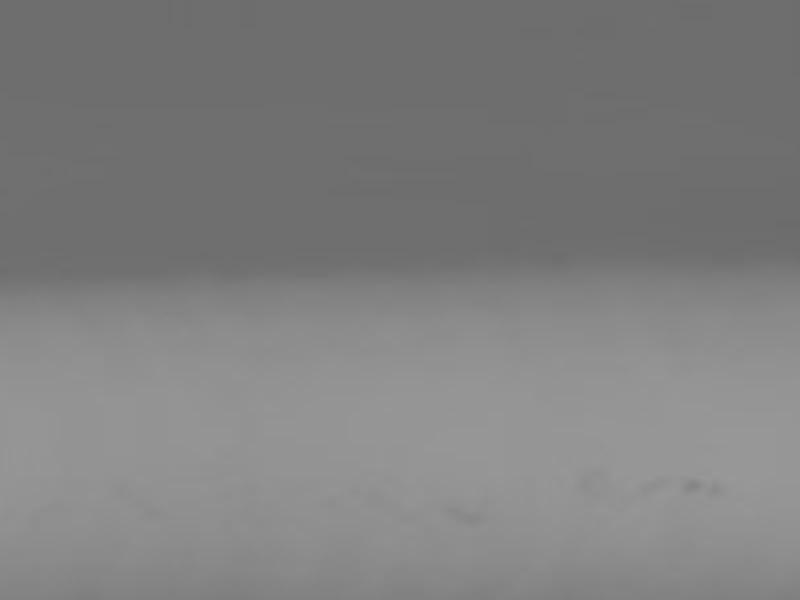defect: (450, 504, 485, 528), (635, 470, 667, 494), (677, 475, 702, 490), (711, 480, 728, 500)
